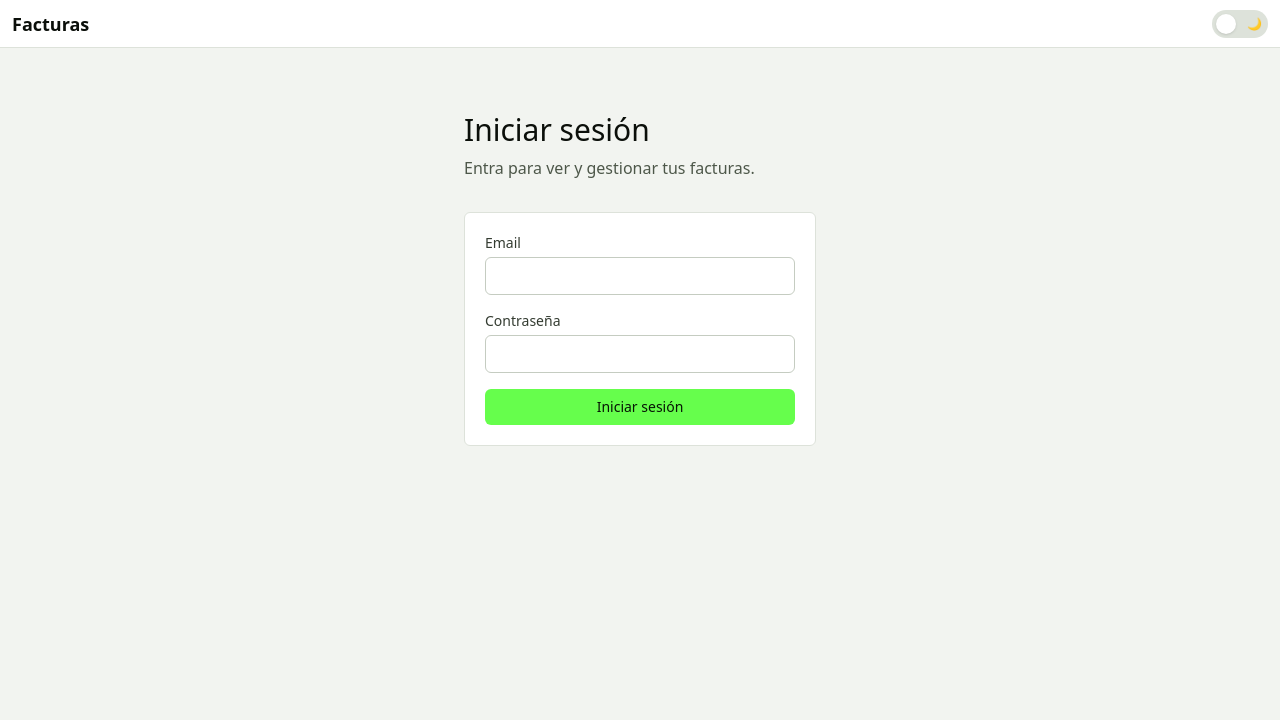
it: LoginPage › demasiados intentos (429): muestra el mensaje de espera de la API
This screenshot has width=1280, height=720.
In the field labelled "Email": (640, 276) [485,257,795,295], type "ana@example.com"
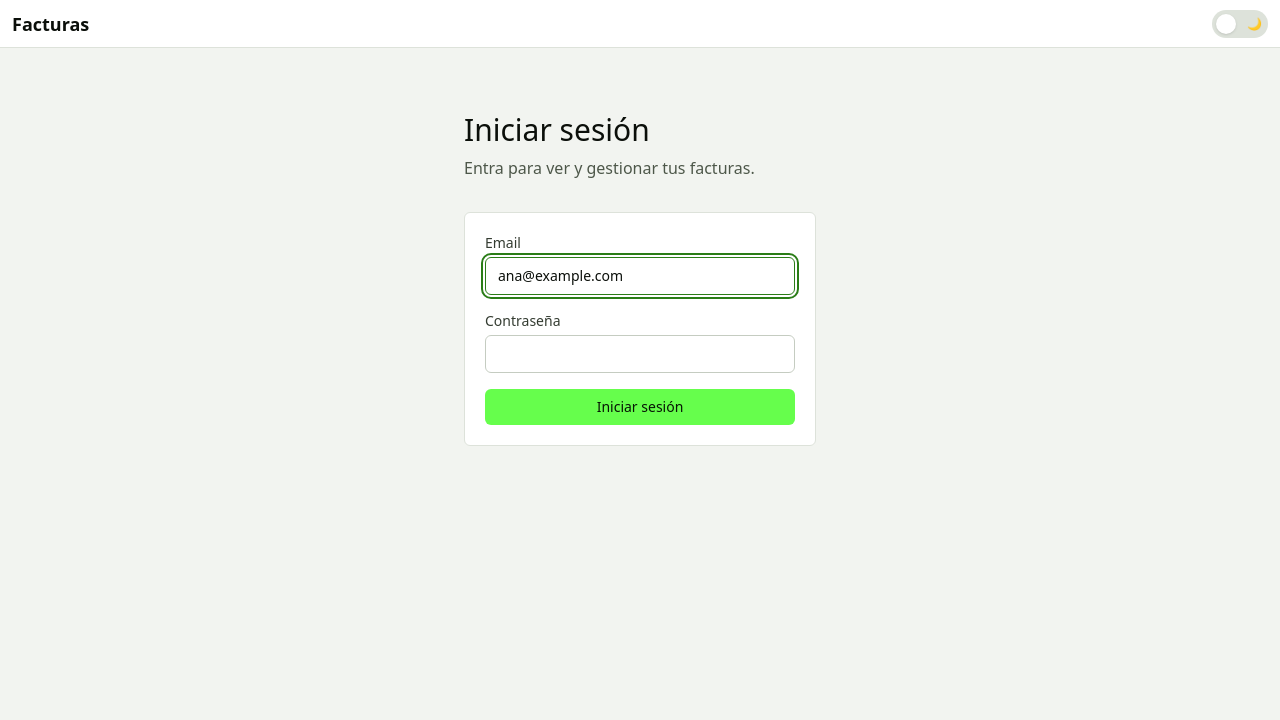
In the password field labelled "Contraseña": (640, 354) [485,335,795,373], type "x"
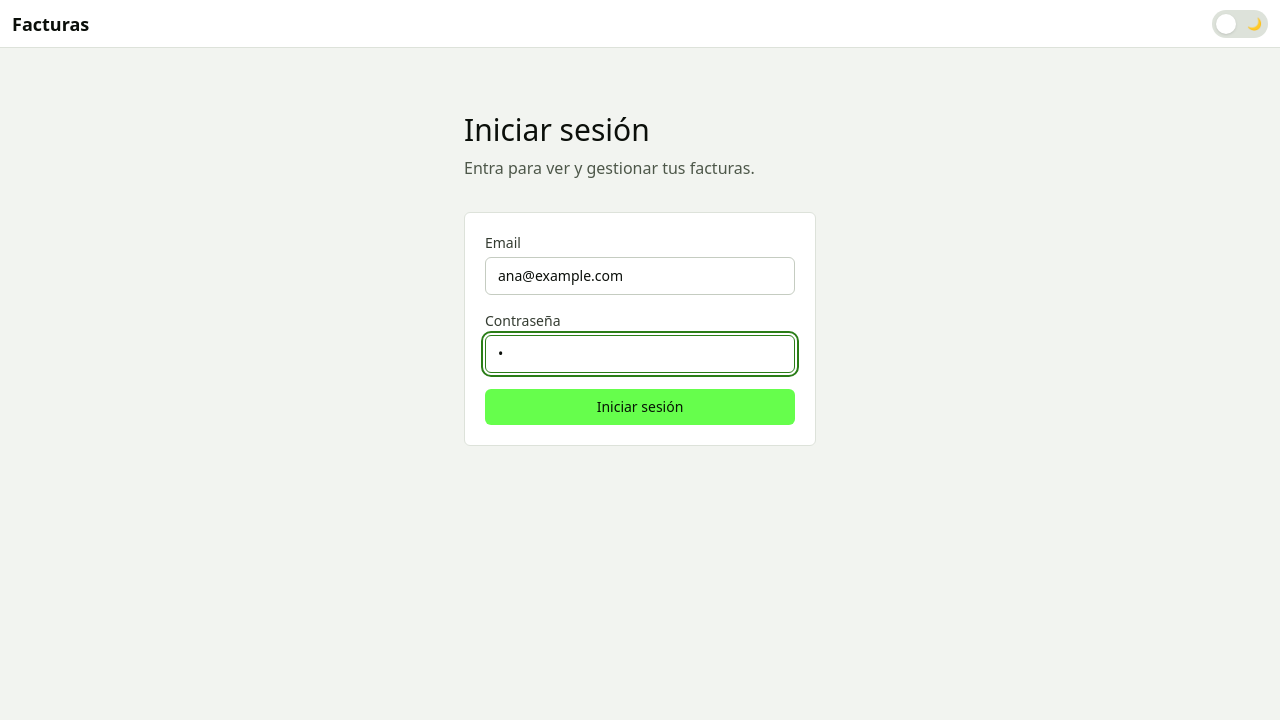
Click the button "Iniciar sesión": click(640, 407) [485,389,795,425]
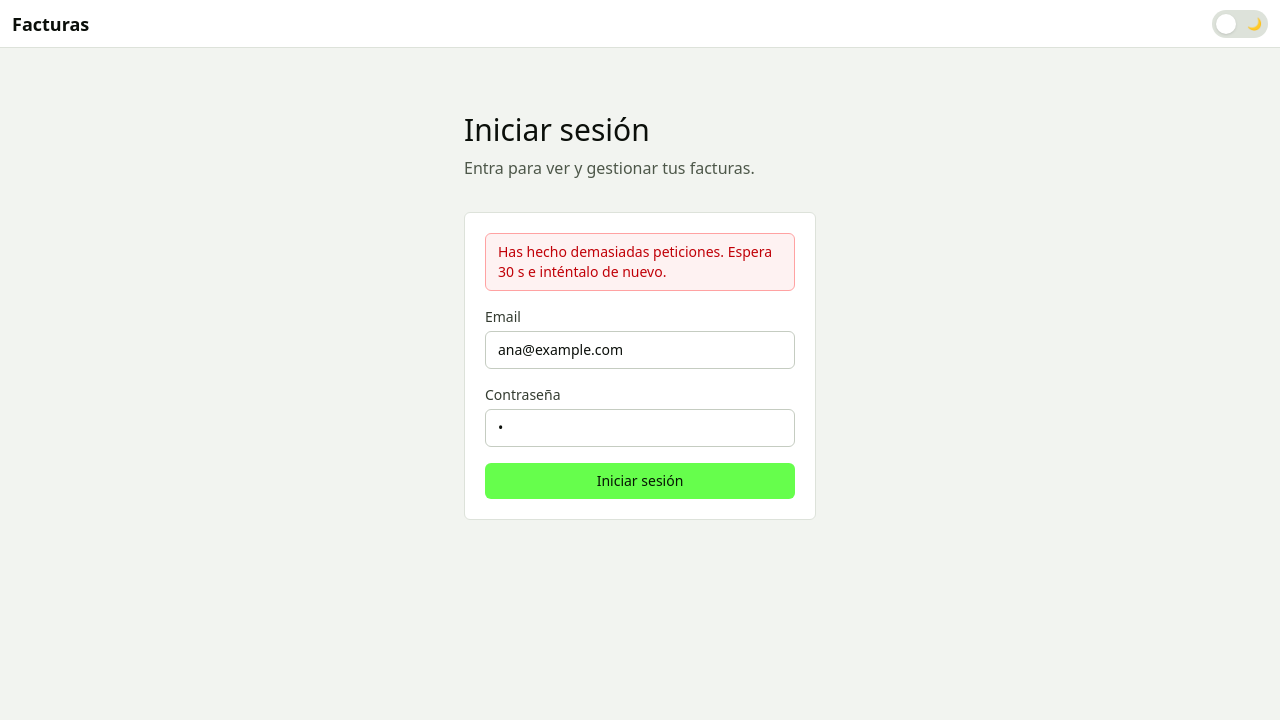
Expected: the message shows "Espera 30 s", [498,242,772,281]
